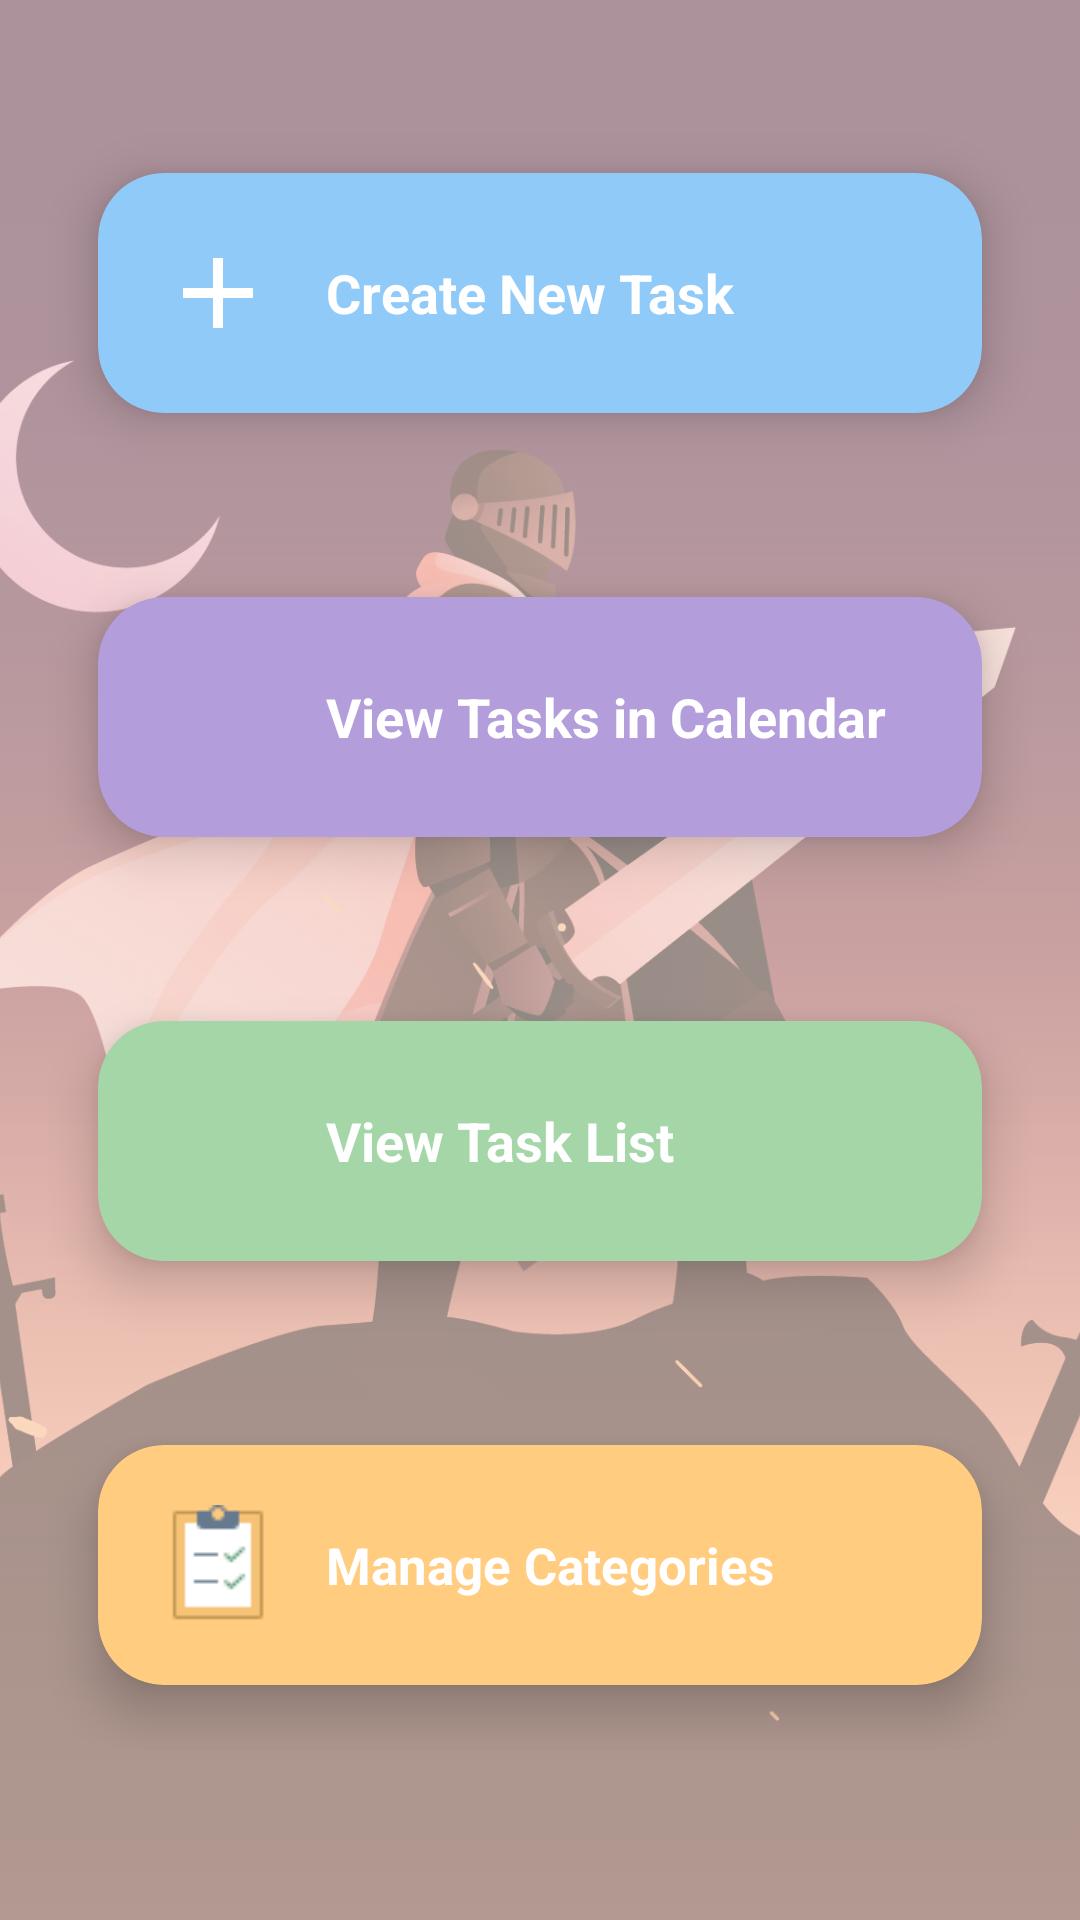

Where to tap for icons on this 1080x1920 app screen, as point (x, y):
add task: point (218, 293)
tasklist: point (218, 1562)
